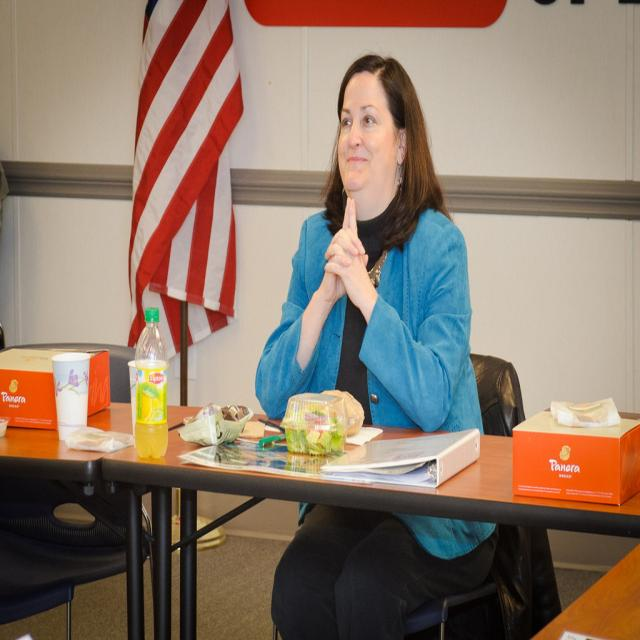desk: (0, 273, 640, 640)
person: (253, 50, 502, 640)
